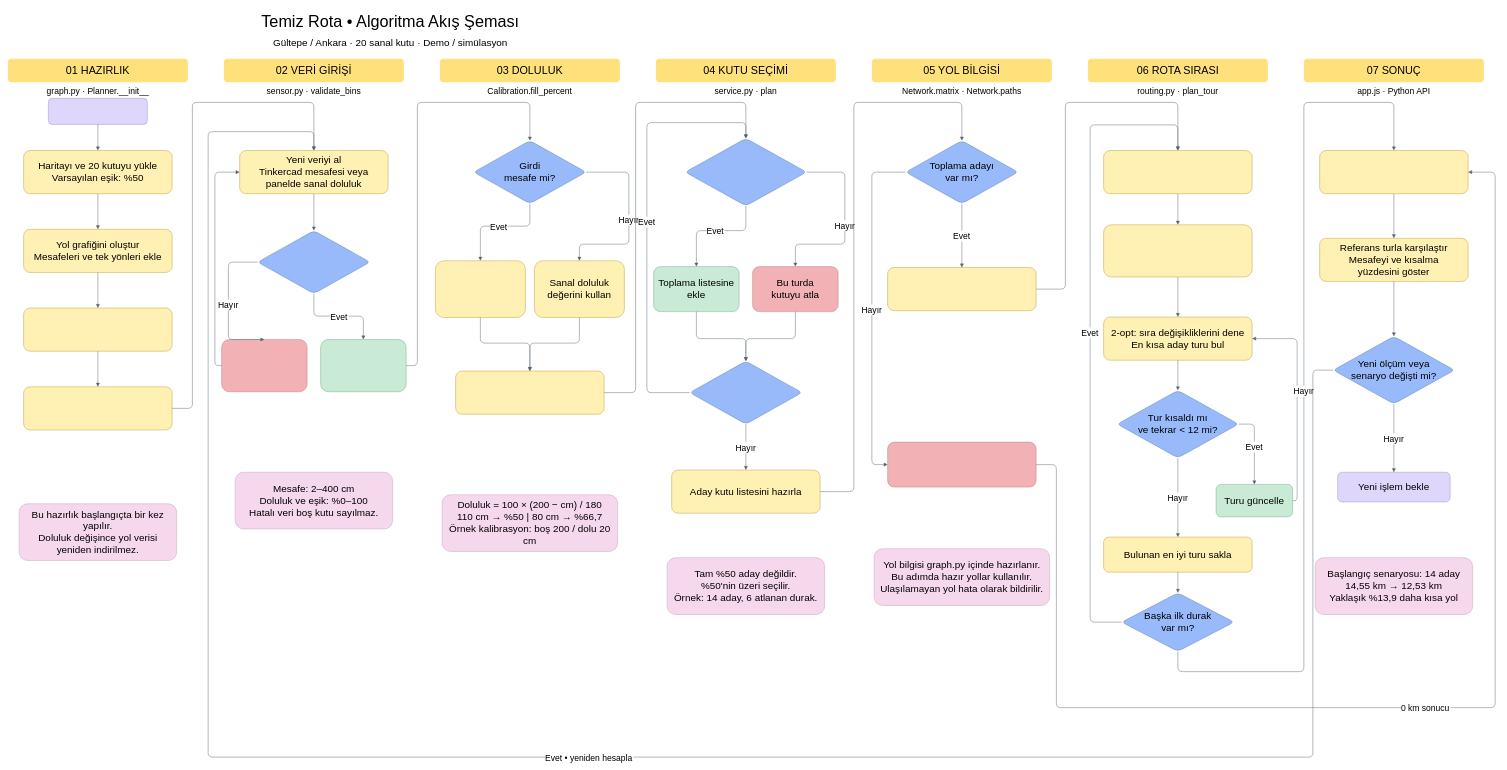
This 1507x770 diagram has some shape labels left out. The shapes that lost their labels are listed below. From the top down, each one's centre as x and y in pixels, then its label:
At [97,111]: "BAŞLA".
At [746,172]: "Her kutu için Doluluk > eşik?".
At [1177,172]: "Bir aday kutuyu ilk durak olarak seç".
At [1393,172]: "Rotayı haritada göster Toplama sırasını yaz".
At [313,262]: "Girdi geçerli mi?".
At [1177,250]: "En ucuz ekleme Kutuları en az ek yol getiren konumlara yerleştir".
At [480,288]: "Mesafeyi doluluğa çevir Sonucu %0–100 arasında tut".
At [961,289]: "Hazır mesafe matrisinden aday kutuların yollarını al".
At [97,329]: "Dijkstra ile en kısa yolları bul Araç + 20 kutu: 21 × 21 matris".
At [264,365]: "Hata göster Mevcut doluluğu koru".
At [363,365]: "Geçerli veriyi işle".
At [97,408]: "20 kutunun referans turunu hesapla ve sakla".
At [529,392]: "Seçili kutunun doluluğunu güncelle".
At [745,392]: "Sıradaki kutu var mı?".
At [961,464]: "Araç çıkışı yok Önerilen tur: 0 km".
